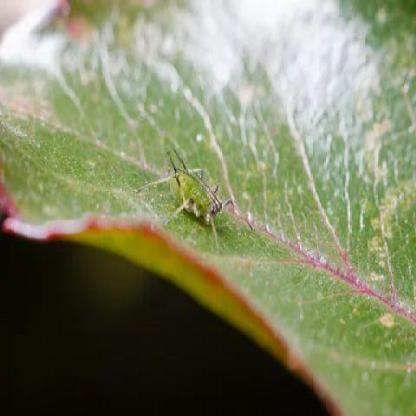aphid: (158, 142, 252, 248)
